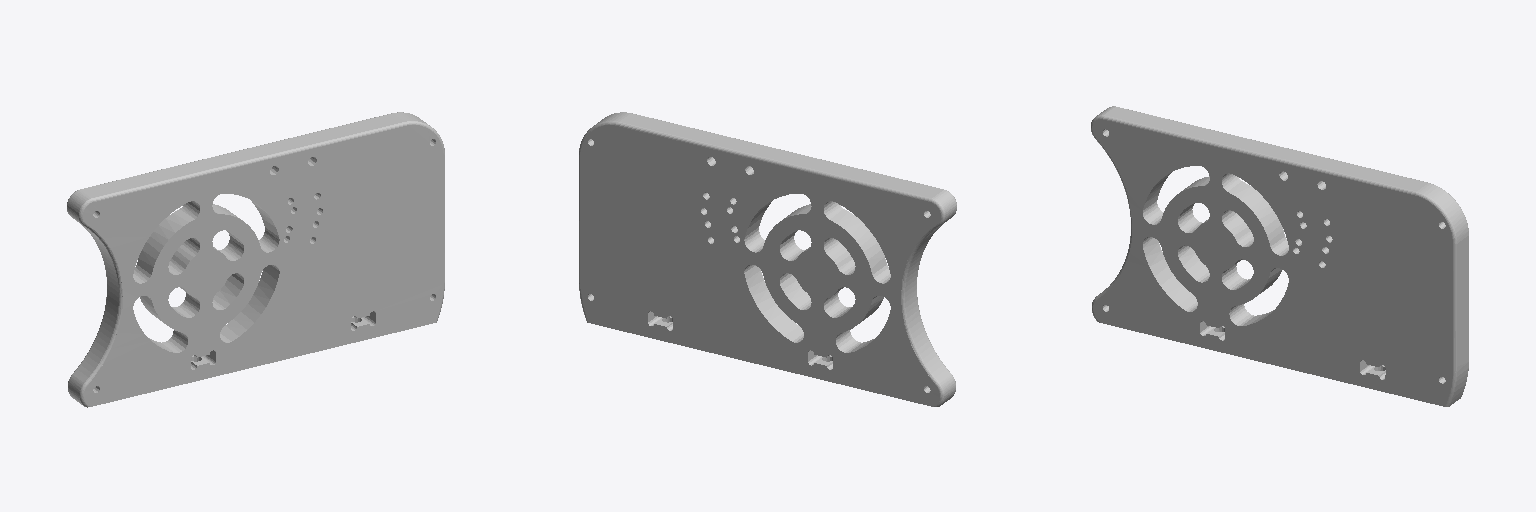
Rendered from under_hull_r3_vis.obj.
The picture shows the model from 3 angles: view 1: azimuth 30°, elevation 25°; view 2: azimuth 150°, elevation 25°; view 3: azimuth 330°, elevation 25°; orthographic projection.
Parts seen in each view (by area): view 1: Under_Hull_R3_vis; view 2: Under_Hull_R3_vis; view 3: Under_Hull_R3_vis.
Part boxes in pixels (left/top/right/bottom): Under_Hull_R3_vis: left=67, top=112, right=444, bottom=407; Under_Hull_R3_vis: left=579, top=112, right=956, bottom=406; Under_Hull_R3_vis: left=1091, top=106, right=1468, bottom=406.
Bounding box in the file's own units: 0.1831 × 0.099 × 0.0127.